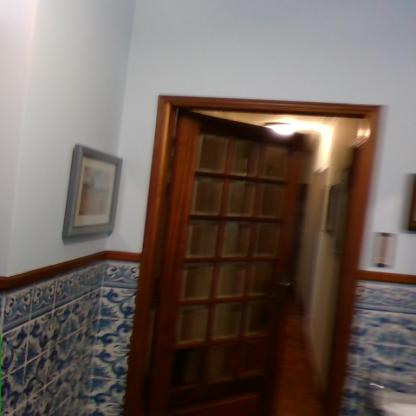semi: (109, 95, 396, 415)
